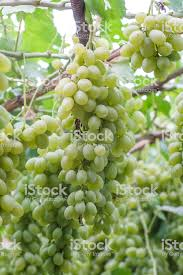grapes: (62, 47, 136, 233), (25, 132, 83, 275), (126, 11, 183, 80)
